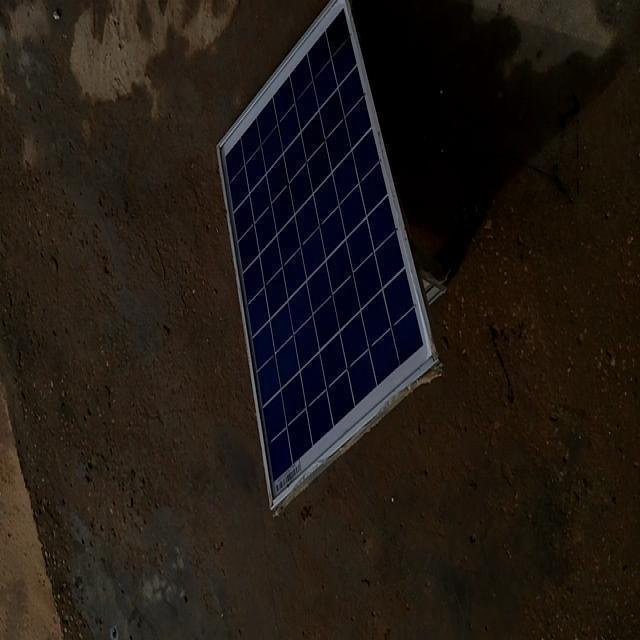Normal Solar Panel: (218, 1, 440, 512)
